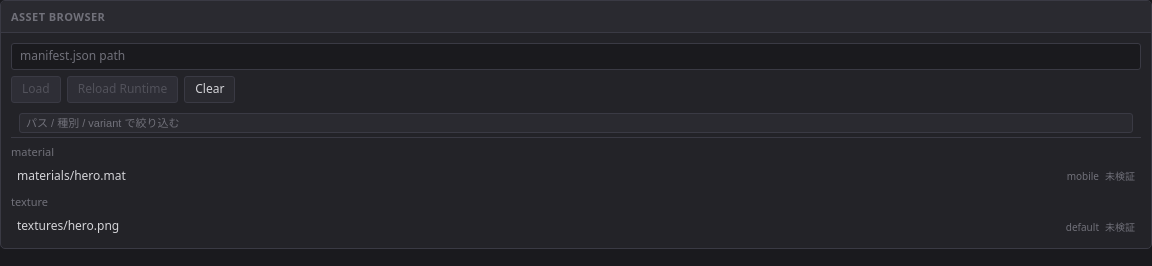
Test: AssetBrowserPanel — filter input › narrows the list and drops the headings of emptied kinds
Check: the text "texture" is shown, box [11,194,48,209]
Check: the text "material" is shown, box [11,144,54,159]
Type "hero.png" into the search field named "アセットを絞り込む".
click(576, 123); type("hero.png")  # box [19,113,1133,133]
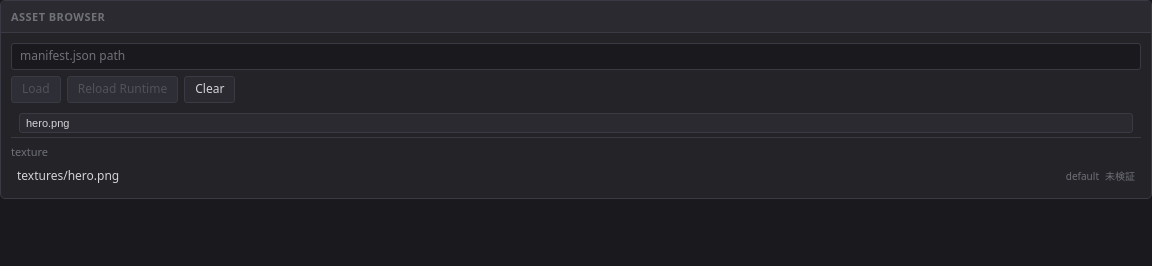
Check: the text "textures/hero.png" is shown, box [17,167,119,184]
Check: the button "materials/hero.mat" is gone
Check: the text "material" is gone
